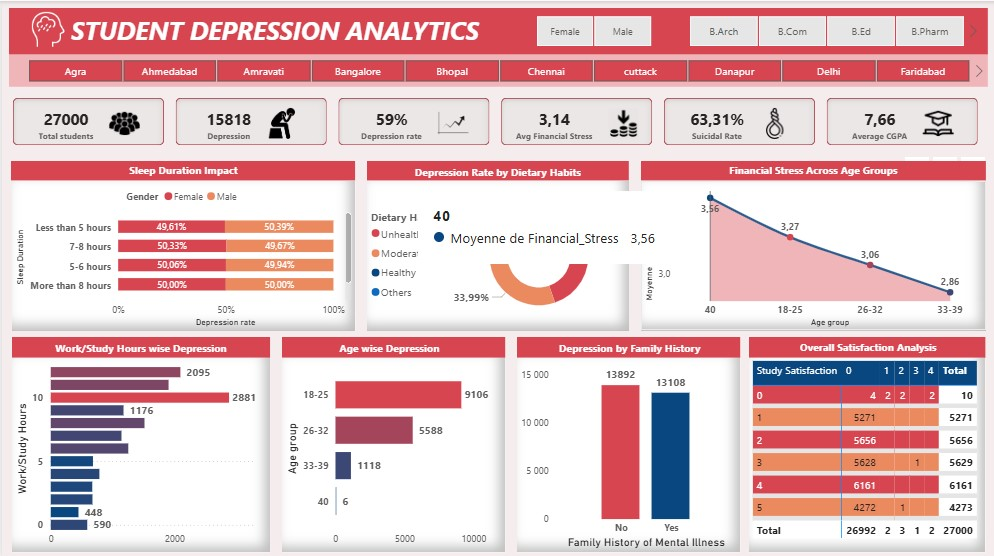

What the dashboard file says about the page in this screenshot:
{"tool":"powerbi","page":{"name":"Page 1","canvas":[1280,720],"ordinal":0},"visuals":[{"type":"cardVisual","fields":{"Data":["CountNonNull(Student Depression Dataset.id)","Sum(Student Depression Dataset.Depression)","Student Depression Dataset.Depression rate","Avg(Student Depression Dataset.Financial Stress)","Student Depression Dataset.Suicidal Thought Rate","Avg(Student Depression Dataset.CGPA)"]},"box":[8.4,119.4,1260.7,71.2],"z":0},{"type":"shape","box":[8.4,9.7,1263.1,60.3],"z":1000},{"type":"textbox","box":[84.4,9.8,642,56.3],"z":2000},{"type":"image","box":[11.6,9,95.5,55.5],"z":3000},{"type":"donutChart","fields":{"Category":["Student Depression Dataset.Dietary Habits"],"Y":["Sum(Student Depression Dataset.Depression)"]},"box":[470.5,231.6,337.8,193],"z":4000},{"type":"shape","box":[470.5,206.3,337.8,25.3],"z":5000},{"type":"textbox","box":[470.5,206.3,337.8,33.8],"z":6000},{"type":"hundredPercentStackedBarChart","fields":{"Series":["Student Depression Dataset.Gender"],"Category":["Student Depression Dataset.Sleep Duration"],"Y":["Student Depression Dataset.Depression rate"]},"box":[13.3,231.6,442.8,193],"z":7000},{"type":"shape","box":[12.1,206.3,444,25.3],"z":8000},{"type":"textbox","box":[13.3,203.9,442.8,27.7],"z":9000},{"type":"clusteredColumnChart","fields":{"Category":["Student Depression Dataset.Family History of Mental Illness"],"Y":["CountNonNull(Student Depression Dataset.Depression count)"]},"box":[664.7,459.7,288.3,252.1],"z":10000},{"type":"shape","box":[664.7,433.1,288.3,26.5],"z":11000},{"type":"textbox","box":[667.2,433.1,285.9,35],"z":12000},{"type":"slicer","fields":{"Values":["Student Depression Dataset.City"]},"box":[8.4,70,1263.1,41],"z":13000},{"type":"lineChart","fields":{"Category":["Student Depression Dataset.Age group"],"Y":["Avg(Student Depression Dataset.Financial Stress)"]},"box":[824,231.6,445.2,193],"z":14000},{"type":"shape","box":[824,206.3,445.2,25.3],"z":15000},{"type":"textbox","box":[824,203.9,445.2,27.7],"z":16000},{"type":"clusteredBarChart","fields":{"Category":["Student Depression Dataset.Work/Study Hours"],"Y":["Sum(Student Depression Dataset.Depression)"]},"box":[13.3,459.7,333,252.1],"z":17000},{"type":"shape","box":[13.3,433.1,333,26.5],"z":18000},{"type":"textbox","box":[13.3,433.1,333,35],"z":19000},{"type":"clusteredBarChart","fields":{"Category":["Student Depression Dataset.Age group"],"Y":["Sum(Student Depression Dataset.Depression)"]},"box":[361.9,459.7,288.3,252.1],"z":20000},{"type":"shape","box":[361.9,433.1,288.3,26.5],"z":21000},{"type":"textbox","box":[361.9,433.1,277.5,35],"z":22000},{"type":"pivotTable","fields":{"Rows":["Student Depression Dataset.Study Satisfaction"],"Values":["CountNonNull(Student Depression Dataset.Depression)"],"Columns":["Student Depression Dataset.Job Satisfaction"]},"box":[963.9,459.7,305.2,252.1],"z":23000},{"type":"shape","box":[963.9,433.1,305.2,26.5],"z":24000},{"type":"textbox","box":[963.9,431.9,307.6,27.7],"z":25000},{"type":"slicer","fields":{"Values":["Student Depression Dataset.Gender"]},"box":[664.7,13.3,196.6,51.9],"z":26000},{"type":"slicer","fields":{"Values":["Student Depression Dataset.Degree"]},"box":[861.4,13.3,403,51.9],"z":27000}]}

Visuals, with their boxes in screenshot pixels (x1, y1, x2, y2), scaled from the page's 1280x720 canvas onto the 994x556 screenshot:
cardVisual - CountNonNull(Student Depression Dataset.id) x Sum(Student Depression Dataset.Depression): {"x1": 7, "y1": 92, "x2": 986, "y2": 147}
shape: {"x1": 7, "y1": 7, "x2": 987, "y2": 54}
textbox: {"x1": 66, "y1": 8, "x2": 564, "y2": 51}
image: {"x1": 9, "y1": 7, "x2": 83, "y2": 50}
donutChart - Student Depression Dataset.Dietary Habits x Sum(Student Depression Dataset.Depression): {"x1": 365, "y1": 179, "x2": 628, "y2": 328}
shape: {"x1": 365, "y1": 159, "x2": 628, "y2": 179}
textbox: {"x1": 365, "y1": 159, "x2": 628, "y2": 185}
hundredPercentStackedBarChart - Student Depression Dataset.Gender x Student Depression Dataset.Sleep Duration: {"x1": 10, "y1": 179, "x2": 354, "y2": 328}
shape: {"x1": 9, "y1": 159, "x2": 354, "y2": 179}
textbox: {"x1": 10, "y1": 157, "x2": 354, "y2": 179}
clusteredColumnChart - Student Depression Dataset.Family History of Mental Illness x CountNonNull(Student Depression Dataset.Depression count): {"x1": 516, "y1": 355, "x2": 740, "y2": 550}
shape: {"x1": 516, "y1": 334, "x2": 740, "y2": 355}
textbox: {"x1": 518, "y1": 334, "x2": 740, "y2": 361}
slicer - Student Depression Dataset.City: {"x1": 7, "y1": 54, "x2": 987, "y2": 86}
lineChart - Student Depression Dataset.Age group x Avg(Student Depression Dataset.Financial Stress): {"x1": 640, "y1": 179, "x2": 986, "y2": 328}
shape: {"x1": 640, "y1": 159, "x2": 986, "y2": 179}
textbox: {"x1": 640, "y1": 157, "x2": 986, "y2": 179}
clusteredBarChart - Student Depression Dataset.Work/Study Hours x Sum(Student Depression Dataset.Depression): {"x1": 10, "y1": 355, "x2": 269, "y2": 550}
shape: {"x1": 10, "y1": 334, "x2": 269, "y2": 355}
textbox: {"x1": 10, "y1": 334, "x2": 269, "y2": 361}
clusteredBarChart - Student Depression Dataset.Age group x Sum(Student Depression Dataset.Depression): {"x1": 281, "y1": 355, "x2": 505, "y2": 550}
shape: {"x1": 281, "y1": 334, "x2": 505, "y2": 355}
textbox: {"x1": 281, "y1": 334, "x2": 497, "y2": 361}
pivotTable - Student Depression Dataset.Study Satisfaction x CountNonNull(Student Depression Dataset.Depression): {"x1": 749, "y1": 355, "x2": 986, "y2": 550}
shape: {"x1": 749, "y1": 334, "x2": 986, "y2": 355}
textbox: {"x1": 749, "y1": 334, "x2": 987, "y2": 355}
slicer - Student Depression Dataset.Gender: {"x1": 516, "y1": 10, "x2": 669, "y2": 50}
slicer - Student Depression Dataset.Degree: {"x1": 669, "y1": 10, "x2": 982, "y2": 50}
